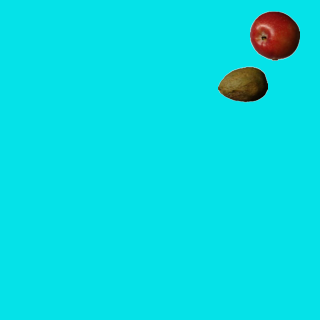Apple Braeburn: (249, 10, 299, 60)
Papaya: (217, 59, 267, 109)
